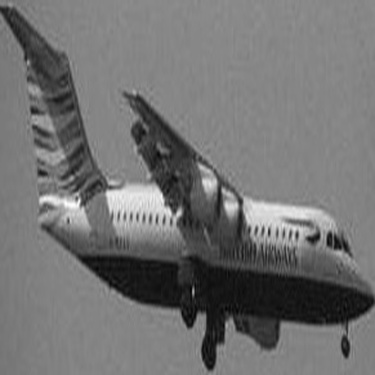airplane: (1, 1, 362, 368)
